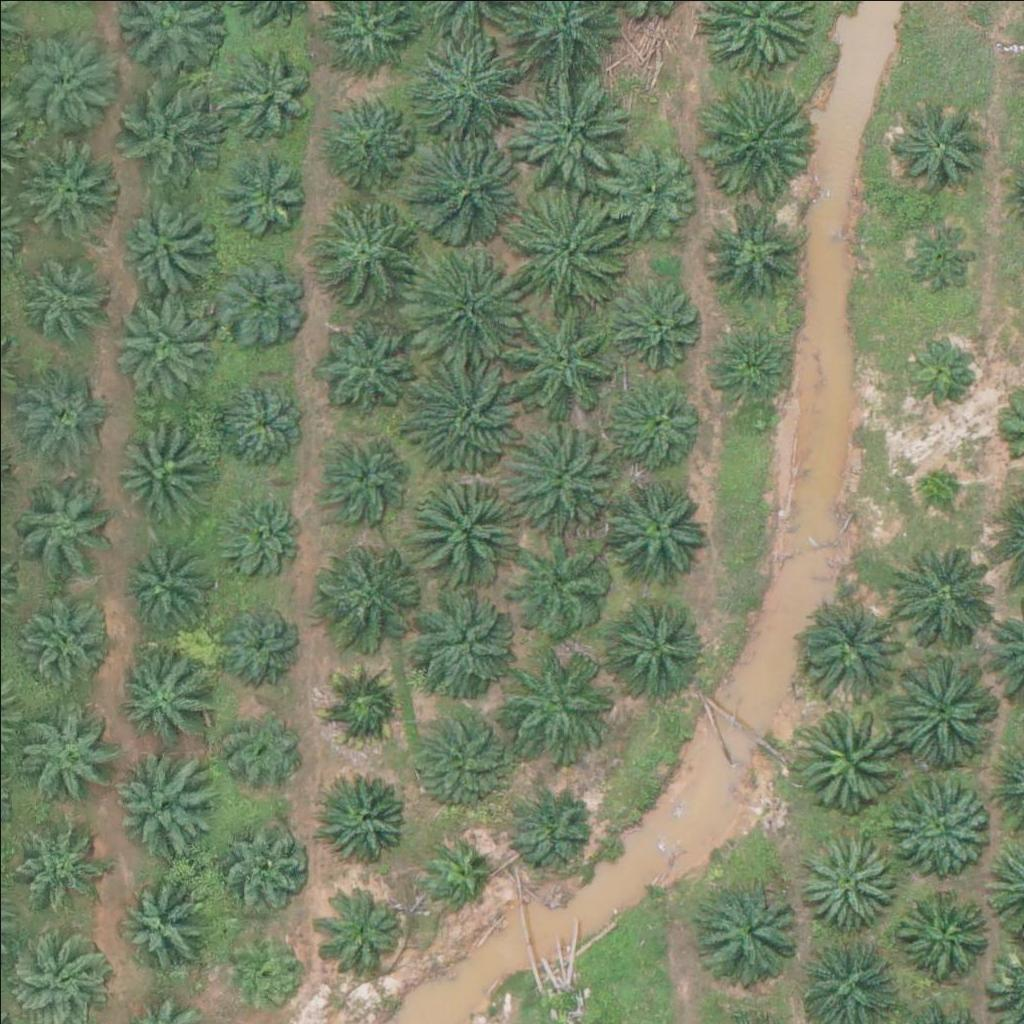Kelapa_Sawit: (698, 86, 811, 200), (14, 22, 127, 135), (514, 70, 627, 183), (405, 249, 518, 362), (405, 360, 518, 473), (406, 478, 519, 591), (405, 593, 518, 706), (508, 418, 621, 531), (506, 189, 619, 302), (889, 653, 1002, 766), (892, 536, 1005, 649), (14, 128, 126, 242), (410, 31, 522, 145), (105, 287, 217, 401), (402, 134, 514, 248), (111, 79, 223, 192), (310, 534, 422, 647), (308, 184, 420, 297), (502, 304, 614, 417), (794, 701, 906, 814), (797, 593, 909, 706), (890, 93, 990, 194), (18, 694, 118, 795), (16, 584, 116, 685), (11, 240, 111, 341), (111, 648, 211, 749), (211, 248, 311, 349), (319, 308, 419, 409), (517, 648, 617, 749), (511, 536, 611, 637), (605, 382, 705, 483), (605, 474, 705, 575), (599, 600, 699, 701), (703, 202, 803, 303), (702, 876, 802, 977), (795, 827, 895, 928), (897, 882, 997, 983), (890, 774, 990, 875), (13, 475, 113, 575), (13, 351, 113, 451), (112, 868, 212, 968), (109, 752, 209, 852), (108, 415, 208, 515), (115, 194, 215, 294), (210, 370, 310, 470), (410, 714, 510, 814), (598, 140, 698, 240), (602, 281, 702, 381), (893, 211, 981, 300), (225, 49, 313, 137), (328, 95, 416, 183), (8, 810, 96, 898), (121, 544, 209, 632), (222, 152, 310, 240), (220, 923, 308, 1011), (216, 705, 304, 793), (215, 593, 303, 681), (215, 488, 303, 576), (507, 785, 595, 873), (219, 822, 306, 910), (317, 881, 404, 969), (321, 776, 408, 864), (896, 330, 983, 418), (321, 658, 408, 746), (324, 437, 411, 525), (709, 327, 796, 415), (417, 831, 492, 907), (914, 453, 964, 503)
